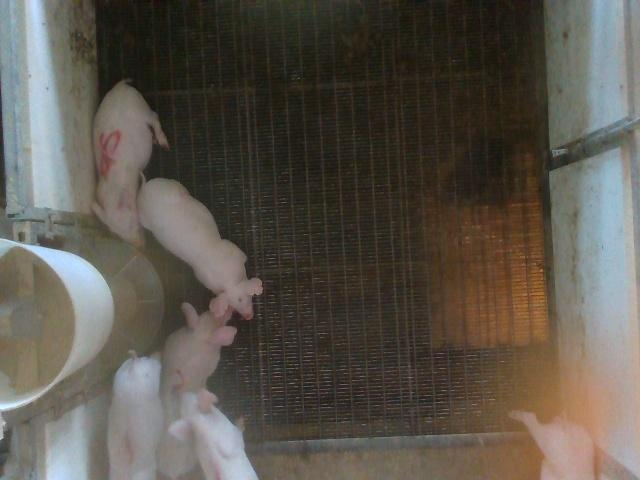pig-1: (108, 351, 164, 478)
pig-3: (158, 302, 236, 477)
pig-4: (168, 389, 258, 479)
pig-5: (92, 80, 169, 248)
